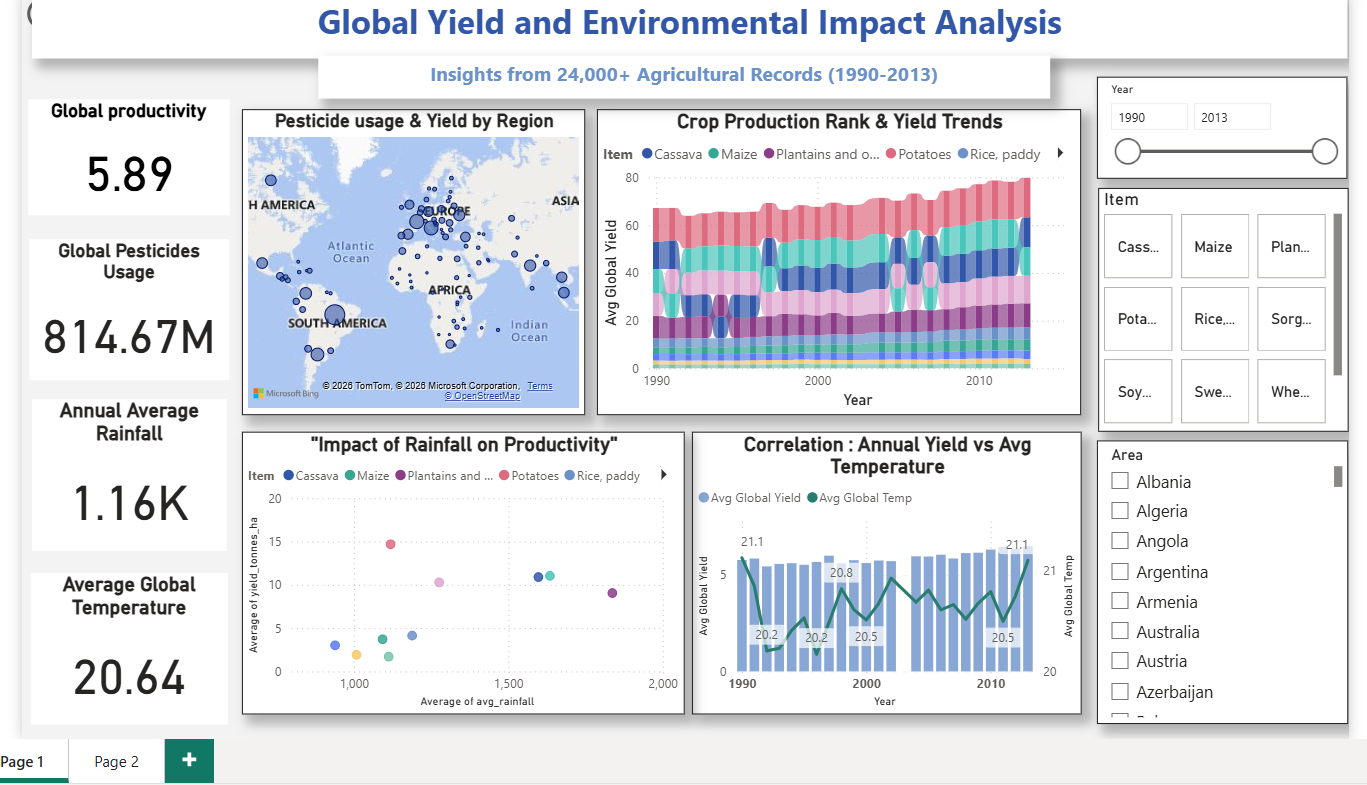

The dashboard page shown, as its layout file describes it:
{"tool":"powerbi","page":{"name":"Page 1","canvas":[1280,720],"ordinal":0},"visuals":[{"type":"map","title":"Pesticide usage & Yield by Region","fields":{"Category":["crop_yield_final_sql.Area"],"Size":["Avg(crop_yield_final_sql.pesticides_tonnes)"]},"box":[212.5,112.5,331.2,295],"z":0},{"type":"slicer","fields":{"Values":["crop_yield_final_sql.Year"]},"box":[1037.5,81.2,241.2,98.8],"z":1000},{"type":"actionButton","box":[0,0,100,40],"z":2000},{"type":"card","title":"Global productivity","fields":{"Values":["crop_yield_final_sql.Avg Global Yield"]},"box":[6,102,194,112],"z":3000},{"type":"card","title":"Average Global Temperature","fields":{"Values":["crop_yield_final_sql.Avg Global Temp"]},"box":[8,560,190,146],"z":4000},{"type":"card","title":"Annual Average Rainfall","fields":{"Values":["crop_yield_final_sql.Avg Global Rainfall"]},"box":[9.7,388.5,188.2,158],"z":5000},{"type":"card","title":"Global Pesticides Usage","fields":{"Values":["crop_yield_final_sql.Total Pesticides"]},"box":[7.5,237.5,192.5,136.2],"z":6000},{"type":"ribbonChart","title":"Crop Production Rank & Yield Trends","fields":{"Series":["crop_yield_final_sql.Item"],"Category":["crop_yield_final_sql.Year"],"Y":["crop_yield_final_sql.Avg Global Yield"]},"box":[555,112.5,467.5,295],"z":7000},{"type":"textbox","box":[10.1,0,1269.7,62.9],"z":8000},{"type":"textbox","box":[286.5,60.7,706.7,41.6],"z":9000},{"type":"lineStackedColumnComboChart","title":"Correlation : Annual Yield vs Avg Temperature","fields":{"Category":["crop_yield_final_sql.Year"],"Y":["crop_yield_final_sql.Avg Global Yield"],"Y2":["crop_yield_final_sql.Avg Global Temp"]},"box":[646.2,423.8,376.2,272.5],"z":10000},{"type":"advancedSlicerVisual","fields":{"Values":["crop_yield_final_sql.Item"]},"box":[1038.8,188.8,241.2,235],"z":11000},{"type":"scatterChart","title":"\"Impact of Rainfall on Productivity\"","fields":{"X":["Avg(crop_yield_final_sql.avg_rainfall)"],"Y":["Avg(crop_yield_final_sql.yield_tonnes_ha)"],"Series":["crop_yield_final_sql.Item"]},"box":[212.5,423.8,427.5,272.5],"z":12000},{"type":"slicer","fields":{"Values":["crop_yield_final_sql.Area"]},"box":[1037.5,432.5,242.5,273.8],"z":13000}]}

Visuals, with their boxes on the page's 1280x720 design canvas (x1, y1, x2, y2). These are canvas units, not pixel positions in the 1367x785 screenshot, which may show the page scaled, cropped or inside an application window:
"Pesticide usage & Yield by Region" map: bbox(212, 112, 544, 408)
slicer - crop_yield_final_sql.Year: bbox(1038, 81, 1279, 180)
actionButton: bbox(0, 0, 100, 40)
"Global productivity" card: bbox(6, 102, 200, 214)
"Average Global Temperature" card: bbox(8, 560, 198, 706)
"Annual Average Rainfall" card: bbox(10, 388, 198, 546)
"Global Pesticides Usage" card: bbox(8, 238, 200, 374)
"Crop Production Rank & Yield Trends" ribbonChart: bbox(555, 112, 1022, 408)
textbox: bbox(10, 0, 1280, 63)
textbox: bbox(286, 61, 993, 102)
"Correlation : Annual Yield vs Avg Temperature" lineStackedColumnComboChart: bbox(646, 424, 1022, 696)
advancedSlicerVisual - crop_yield_final_sql.Item: bbox(1039, 189, 1280, 424)
""Impact of Rainfall on Productivity"" scatterChart: bbox(212, 424, 640, 696)
slicer - crop_yield_final_sql.Area: bbox(1038, 432, 1280, 706)
